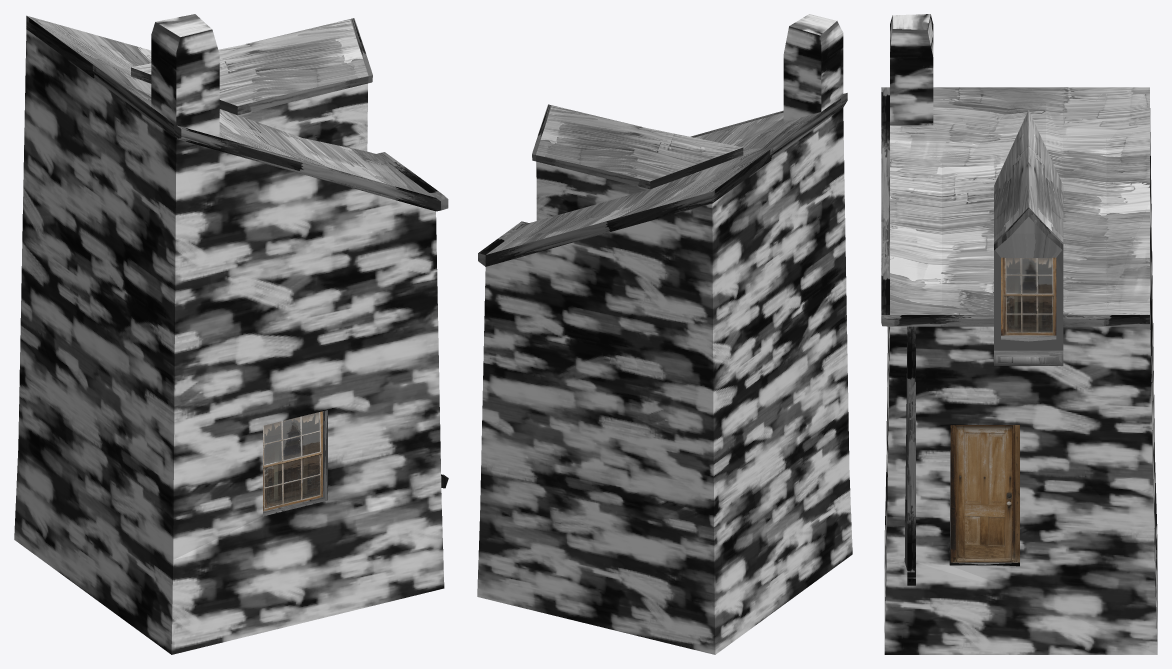
Rendered from cottage_01.glb.
The picture shows the model from 3 angles, left to right: view 1: azimuth 30°, elevation 25°; view 2: azimuth 150°, elevation 25°; view 3: azimuth 270°, elevation 25°; orthographic projection. The views are drawn at different scales.
Parts seen in each view (by area): view 1: Walls, Roof, Trim, Trim.002, Trim_2; view 2: Walls, Roof, Trim; view 3: Walls, Roof, Trim, Trim.001, Trim.002, Lintel, Trim_2.
Part boxes in pixels (<box>): Walls: <box>14,14,444,654</box>; Roof: <box>27,16,435,197</box>; Trim: <box>26,16,448,488</box>; Trim.002: <box>263,411,322,511</box>; Trim_2: <box>263,410,327,516</box>; Walls: <box>477,14,852,654</box>; Roof: <box>486,105,820,254</box>; Trim: <box>478,93,847,266</box>; Walls: <box>884,14,1157,654</box>; Roof: <box>890,87,1149,314</box>; Trim: <box>881,87,1149,585</box>; Trim.001: <box>950,425,1019,562</box>; Trim.002: <box>1001,257,1056,335</box>; Lintel: <box>994,350,1063,365</box>; Trim_2: <box>949,335,1063,566</box>.
Size of what is drawn, in the model's own units: 3.35 by 6.75 by 3.19.
Materials: 6 (6 with a texture image).
